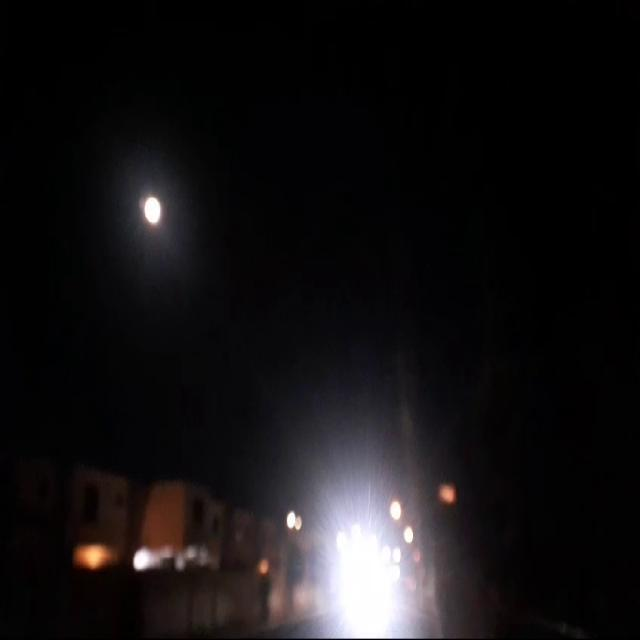moon: (144, 183, 164, 219)
